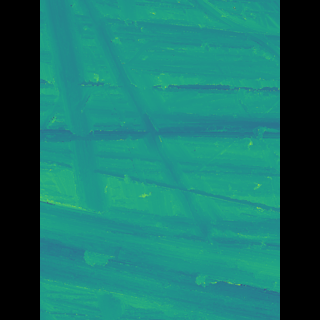Loch: (71, 0, 215, 244), (69, 199, 250, 320)
